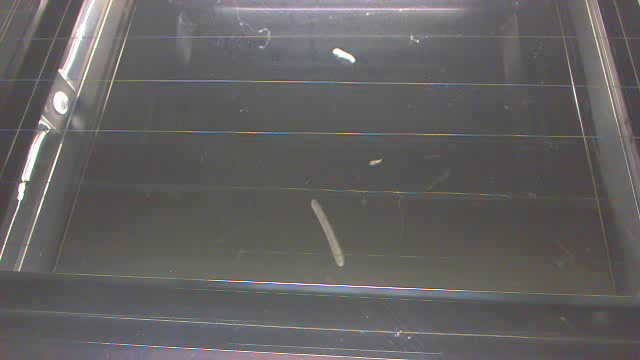alpha: (310, 199, 343, 266), (333, 48, 355, 61), (370, 159, 382, 164)
